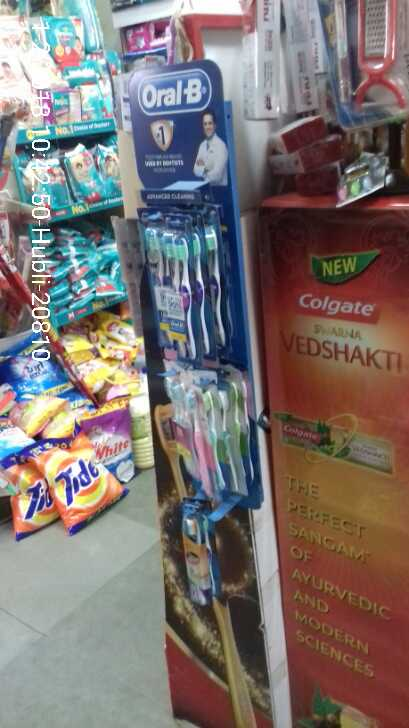home: (1, 449, 121, 538)
pharmacy: (140, 220, 234, 357), (162, 367, 253, 500), (36, 227, 120, 315), (21, 145, 116, 209), (45, 18, 79, 77)
